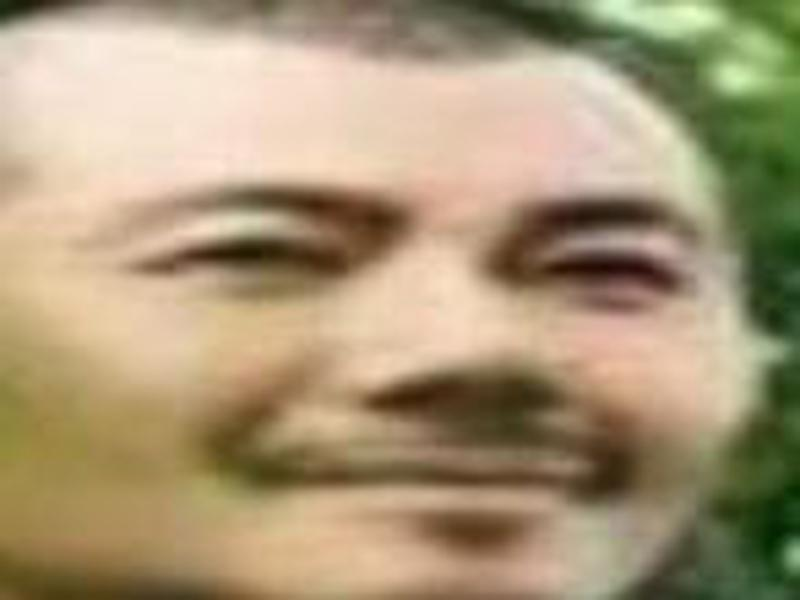without_mask: (3, 2, 749, 600)
